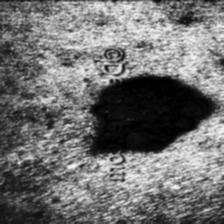Potentially Malignant Skin Tumors: (131, 76, 214, 160)
